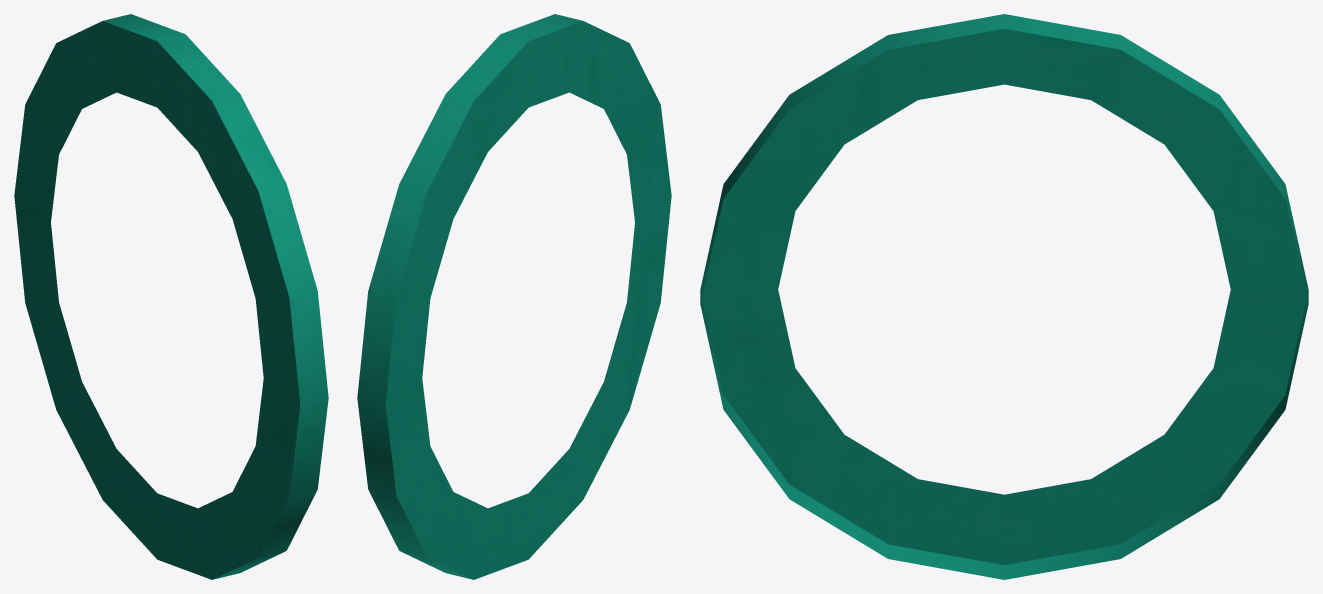
File: pipeFlangeBig.fbx
3 views of the same model, side by side, from view 1: azimuth 30°, elevation 25°; view 2: azimuth 150°, elevation 25°; view 3: azimuth 270°, elevation 25° (orthographic). The views are drawn at different scales.
Parts seen in each view (by area): view 1: pipeFlangeBig1; view 2: pipeFlangeBig1; view 3: pipeFlangeBig1.
Part boxes in pixels (bbox=[...]): pipeFlangeBig1: bbox=[14, 14, 328, 579]; pipeFlangeBig1: bbox=[357, 14, 671, 579]; pipeFlangeBig1: bbox=[700, 14, 1308, 579].
Size of the model in its own units: 0.0369 by 0.6444 by 0.6444.
